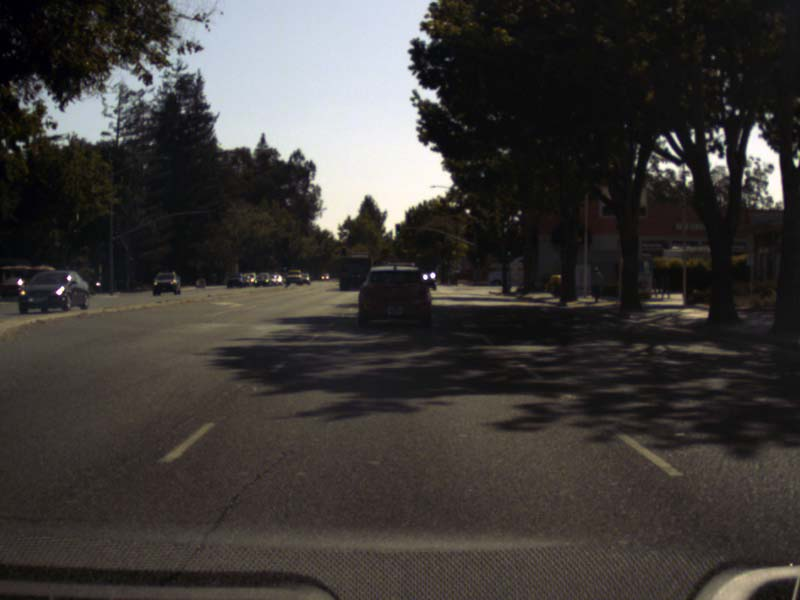Green: (282, 257, 288, 271), (395, 224, 400, 235), (476, 257, 480, 266), (506, 250, 511, 255)
